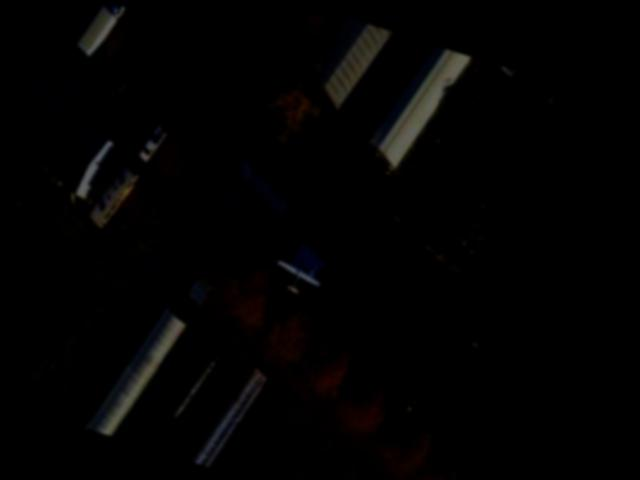uav: (262, 240, 332, 302)
